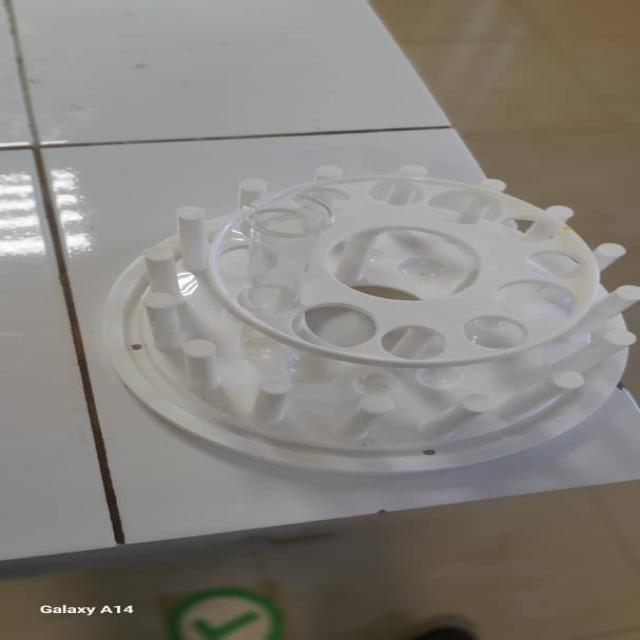Test Tube Racks: (88, 165, 634, 486)
